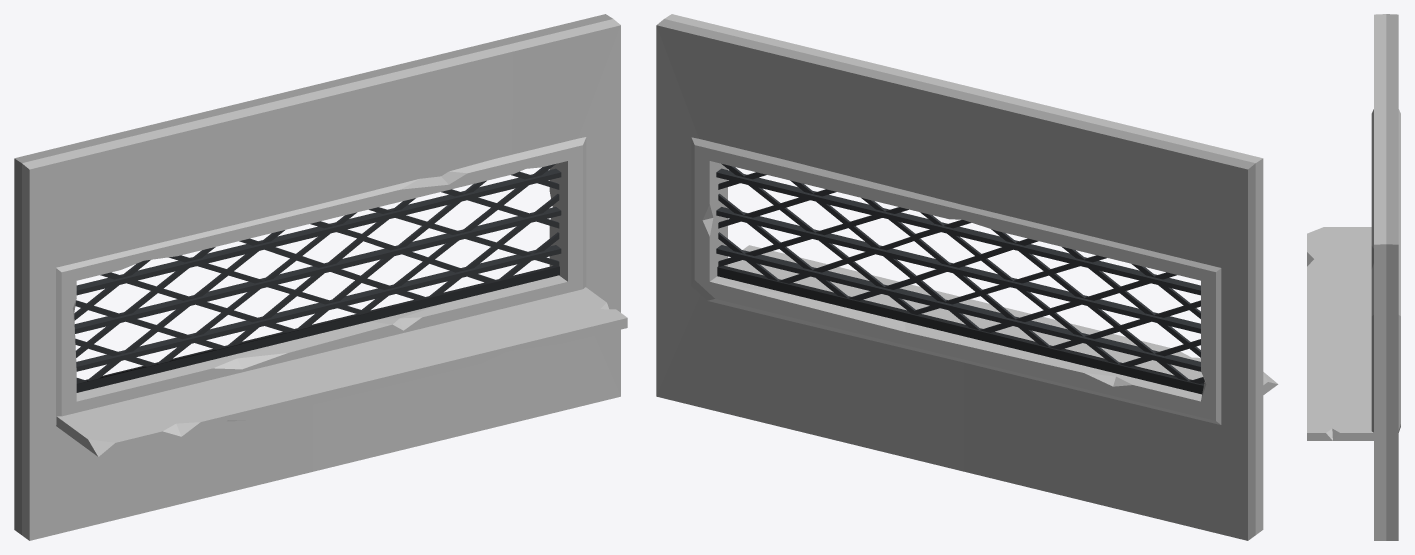
The model's file is SM_Bld_Wall_Serving_01.fbx.
The picture shows the model from 3 angles, left to right: view 1: azimuth 30°, elevation 25°; view 2: azimuth 150°, elevation 25°; view 3: azimuth 270°, elevation 25°; orthographic projection. The views are drawn at different scales.
Parts seen in each view (by area): view 1: SM_Bld_Wall_Serving_01; view 2: SM_Bld_Wall_Serving_01; view 3: SM_Bld_Wall_Serving_01.
Boxes of the visible parts, x1=… form: SM_Bld_Wall_Serving_01: x1=14, y1=14, x2=627, y2=540; SM_Bld_Wall_Serving_01: x1=656, y1=14, x2=1278, y2=540; SM_Bld_Wall_Serving_01: x1=1307, y1=14, x2=1400, y2=540.
Bounding box in the file's own units: 500 × 301 × 86.08.
